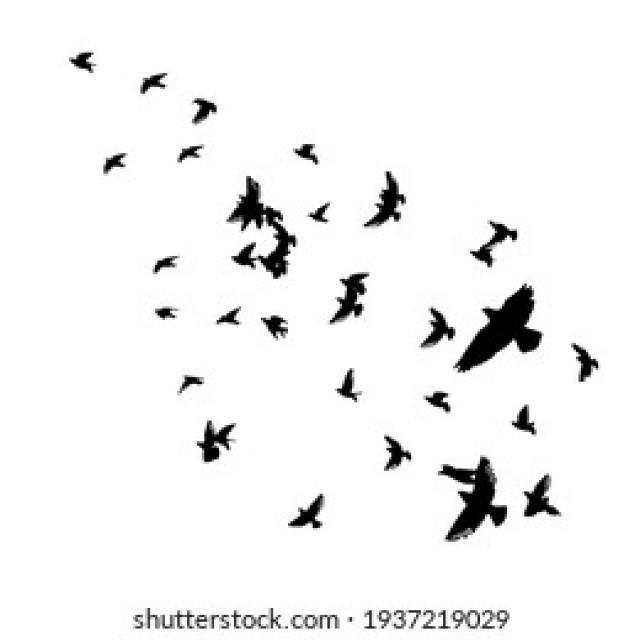bird: (447, 262, 535, 380), (432, 454, 501, 554), (462, 196, 545, 279), (368, 145, 430, 239), (522, 462, 598, 526), (322, 254, 380, 336), (388, 295, 462, 359), (124, 276, 186, 346), (276, 466, 338, 535), (50, 23, 104, 94), (188, 403, 252, 454), (161, 350, 225, 400), (405, 351, 464, 404), (88, 120, 140, 180), (123, 234, 190, 278), (560, 326, 594, 404), (134, 54, 186, 100), (374, 420, 414, 478), (280, 113, 328, 161), (168, 132, 214, 180), (257, 296, 299, 346), (502, 400, 547, 446), (178, 82, 210, 146), (213, 295, 255, 336), (322, 362, 362, 404), (304, 190, 331, 233)
